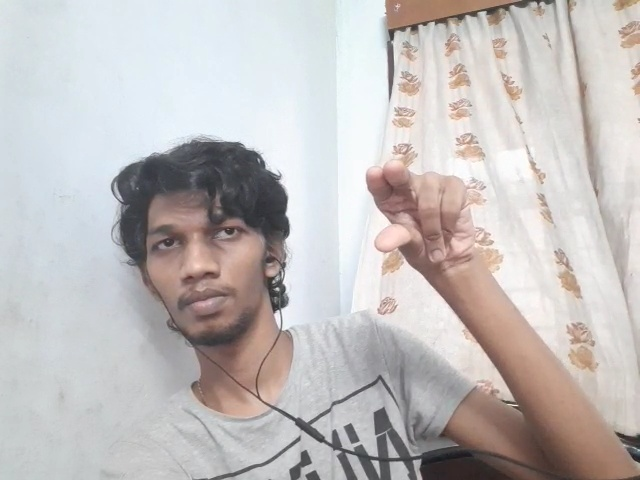No: (364, 160, 478, 264)
